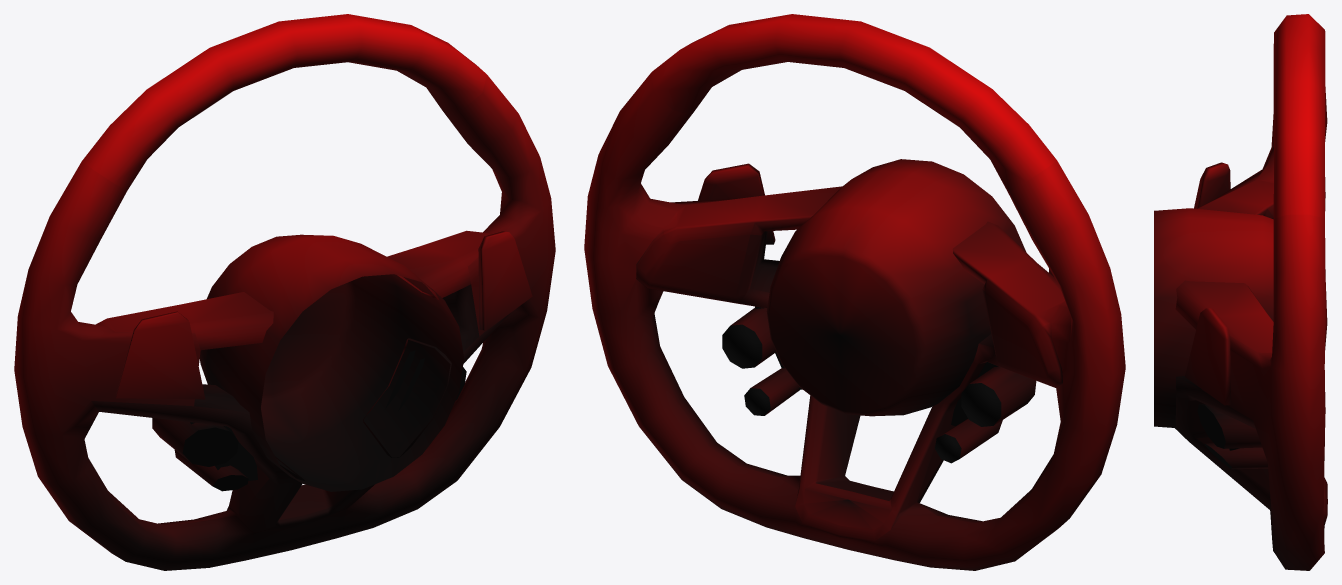
The model's file is AudiR8_Steeringwheel.fbx.
The picture shows the model from 3 angles, left to right: view 1: azimuth 30°, elevation 25°; view 2: azimuth 150°, elevation 25°; view 3: azimuth 270°, elevation 25°; orthographic projection. The views are drawn at different scales.
Parts seen in each view (by area): view 1: AudiR8_Steeringwheel; view 2: AudiR8_Steeringwheel; view 3: AudiR8_Steeringwheel.
Part boxes in pixels (x1=…): AudiR8_Steeringwheel: x1=14, y1=14, x2=555, y2=570; AudiR8_Steeringwheel: x1=584, y1=14, x2=1125, y2=570; AudiR8_Steeringwheel: x1=1154, y1=14, x2=1327, y2=570.
Bounding box in the file's own units: 36.29 × 34.13 × 11.15.
